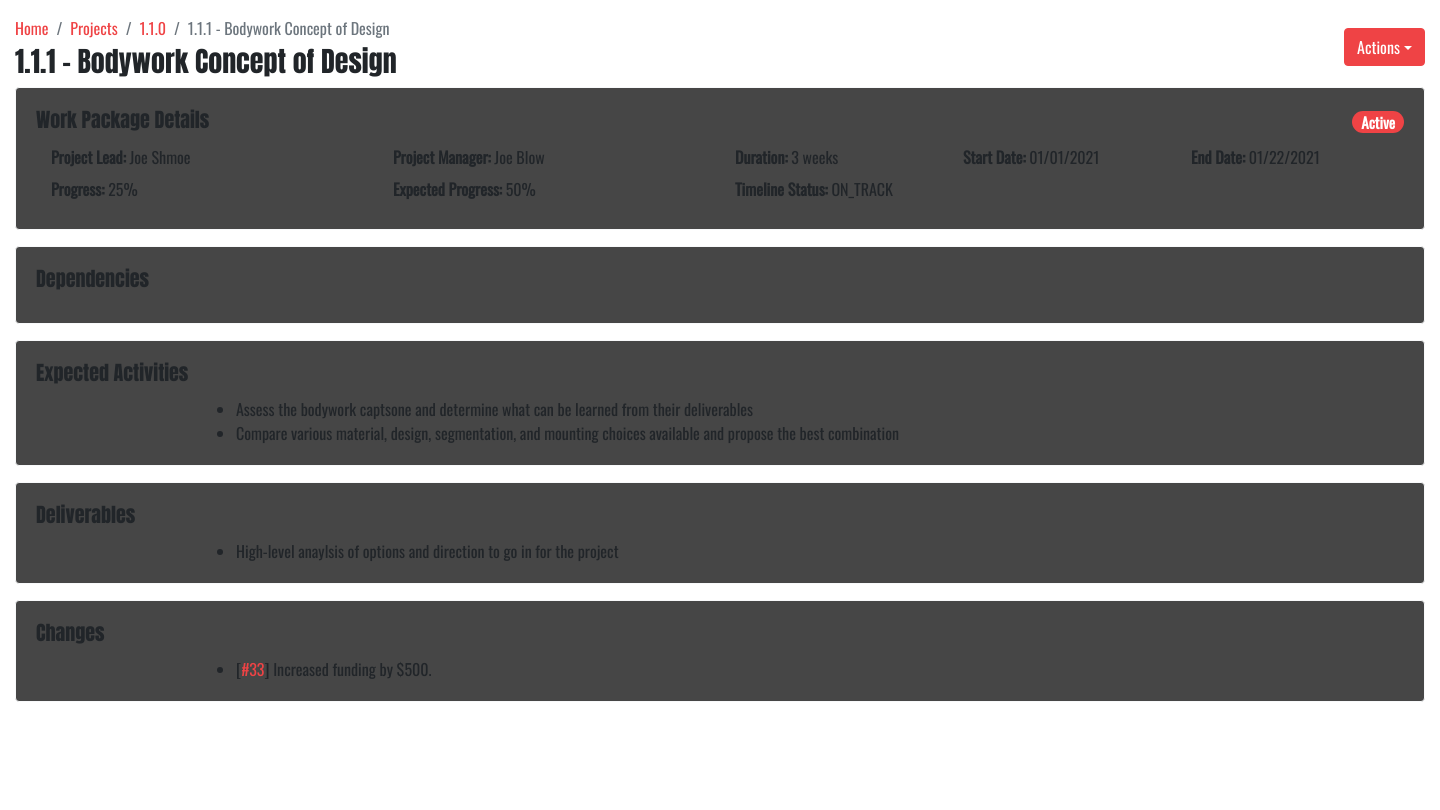
Test: work package container › disables the edit button for guest user
This screenshot has width=1440, height=810.
Click the button "Actions": (1385, 47) [1344, 28, 1425, 66]
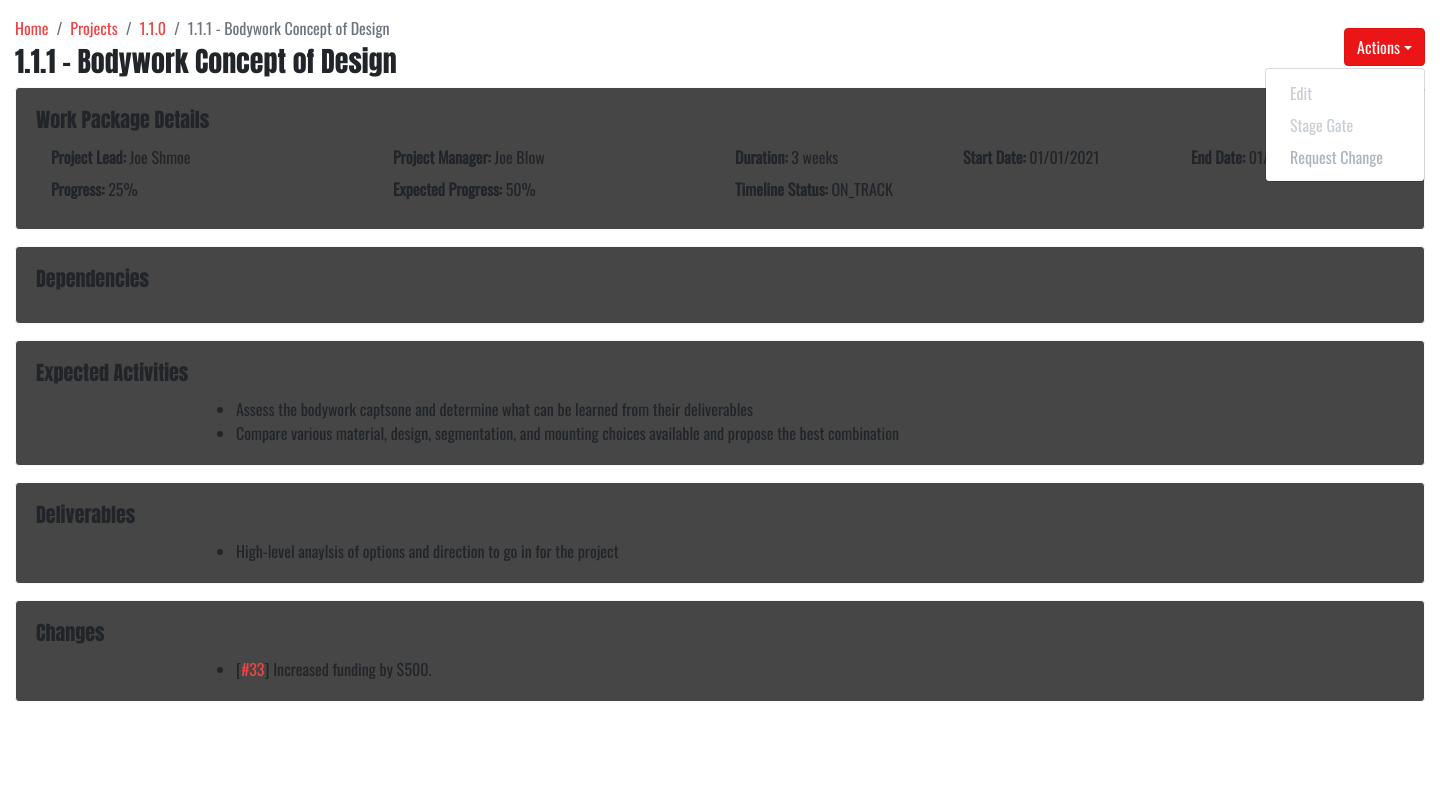
Check: the button "Edit" is disabled, box [1266, 77, 1424, 109]
